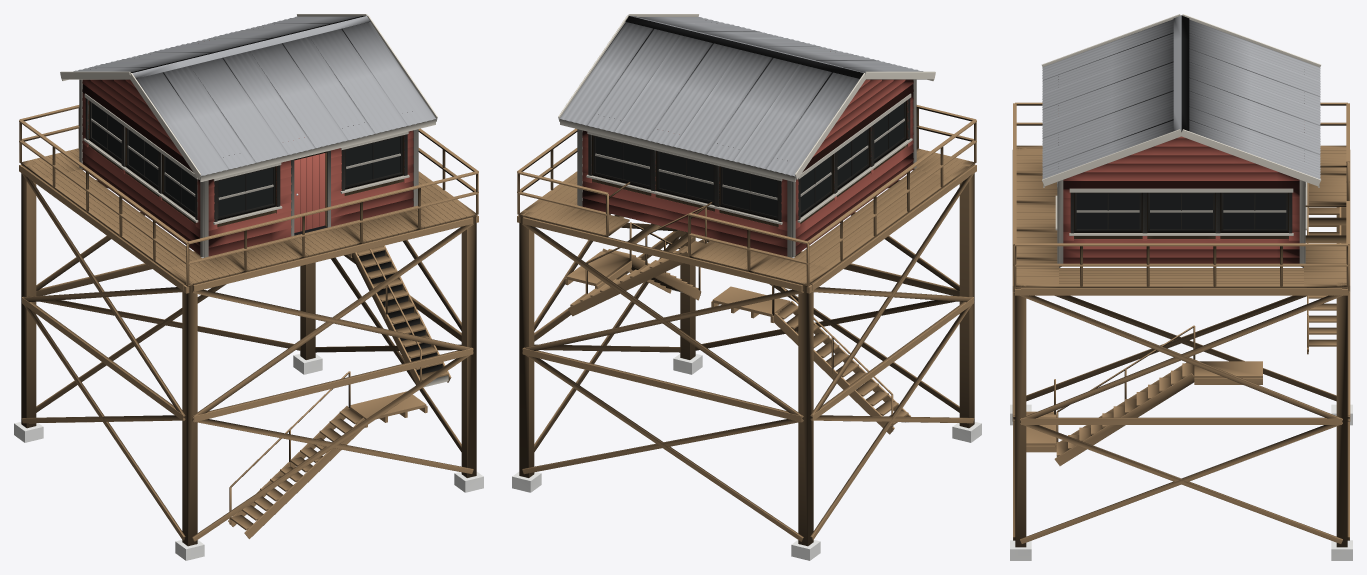
Rendered from watchtower.glb.
3 views of the same model, side by side, from view 1: azimuth 30°, elevation 25°; view 2: azimuth 150°, elevation 25°; view 3: azimuth 270°, elevation 25° (orthographic).
Visible parts, largest first — view 1: PART, DOOR_cabin; view 2: PART; view 3: PART.
Boxes of the visible parts, x1=… form: PART: x1=14, y1=14, x2=483, y2=560; DOOR_cabin: x1=294, y1=153, x2=325, y2=232; PART: x1=512, y1=14, x2=981, y2=560; PART: x1=1010, y1=14, x2=1352, y2=560.
Bounding box in the file's own units: 8 × 10.74 × 8.
